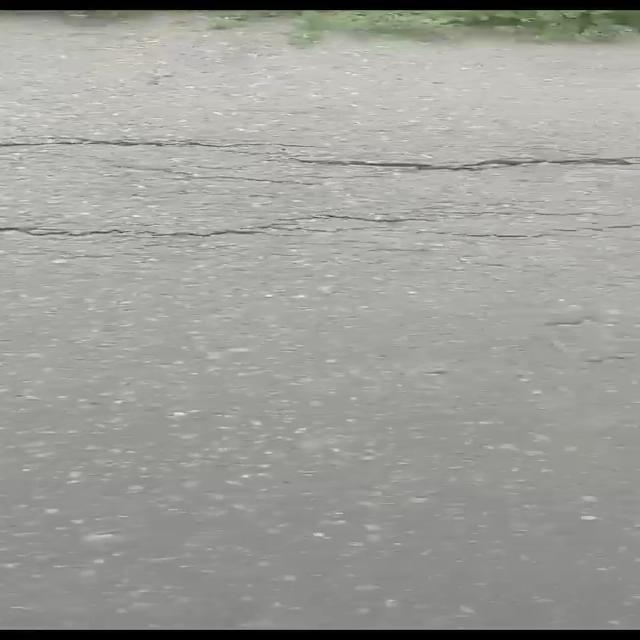Melintang: (0, 120, 640, 189)
